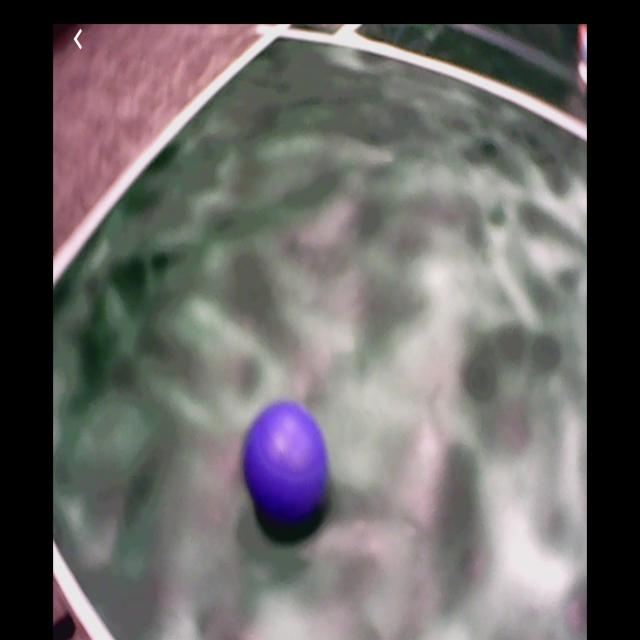ball: (244, 402, 328, 521)
